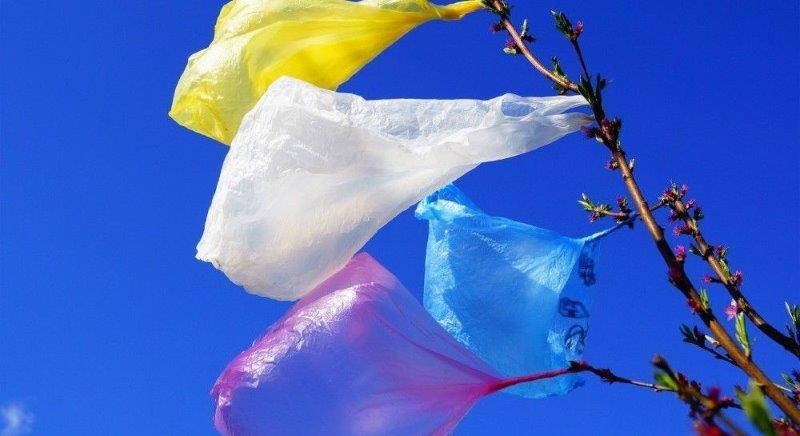plastic: (198, 75, 591, 300), (205, 254, 573, 431), (408, 178, 645, 401), (164, 0, 493, 154)
